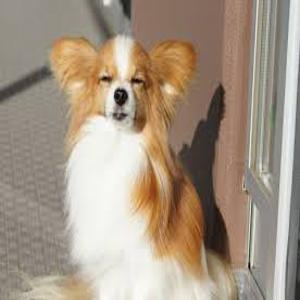yell: (13, 35, 237, 300)
